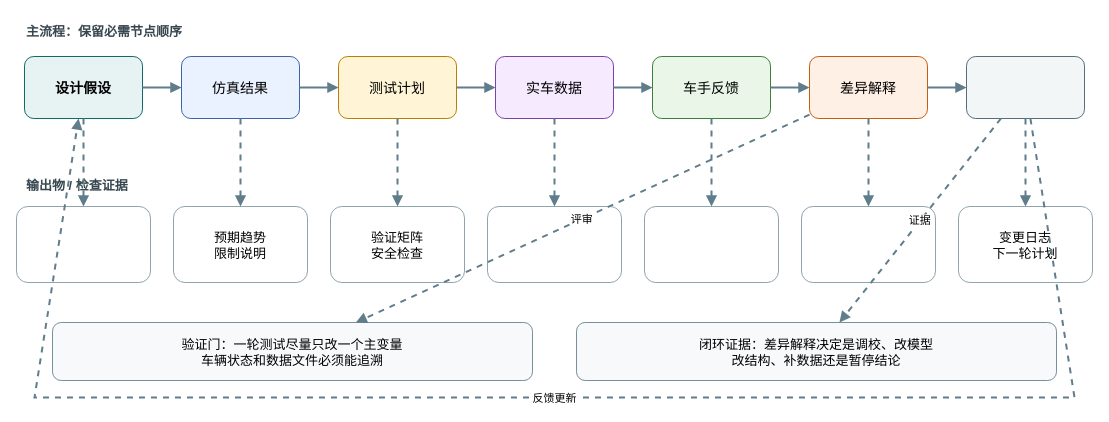
Some shapes in this 1109 by 422 pixel diagram are drawn without their labels. The centre of each missing label's shape, as x and y in pixels:
"修改记录" belongs at (1025,87).
"假设清单 通过标准" belongs at (83,244).
"工况描述 速度区间" belongs at (711,244).
"设置日志 数据文件" belongs at (554,244).
"问题列表 原因排查" belongs at (868,244).
